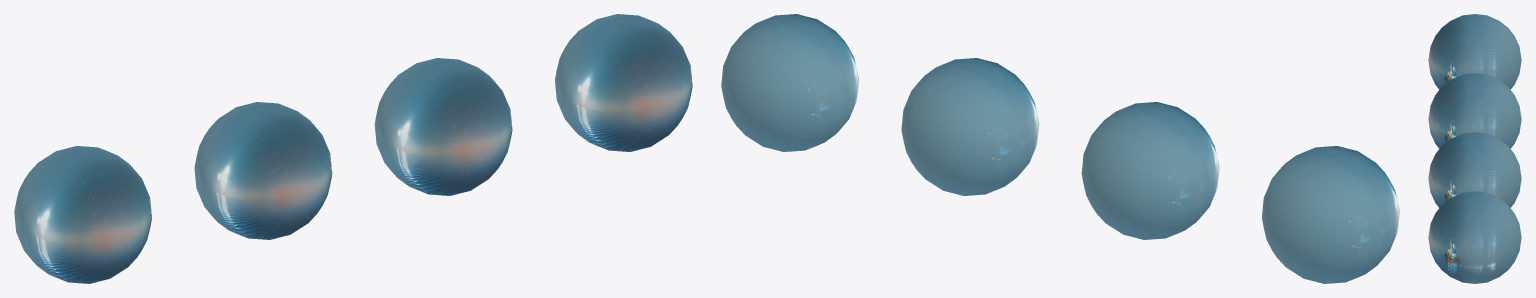
File: bubbleeeee.glb
The picture shows the model from 3 angles, left to right: view 1: azimuth 30°, elevation 25°; view 2: azimuth 150°, elevation 25°; view 3: azimuth 270°, elevation 25°; orthographic projection. The views are drawn at different scales.
Parts seen in each view (by area): view 1: Icosphere.001, Icosphere.004, Icosphere.002, Icosphere.003; view 2: Icosphere.001, Icosphere.004, Icosphere.002, Icosphere.003; view 3: Icosphere.004, Icosphere.002, Icosphere.003, Icosphere.001.
Boxes of the visible parts, x1,y1,x2,y2 form: Icosphere.001: [14, 146, 151, 283]; Icosphere.004: [555, 14, 692, 151]; Icosphere.002: [194, 102, 332, 239]; Icosphere.003: [374, 58, 512, 195]; Icosphere.001: [1262, 146, 1399, 283]; Icosphere.004: [721, 14, 858, 151]; Icosphere.002: [1081, 102, 1219, 239]; Icosphere.003: [901, 58, 1039, 195]; Icosphere.004: [1428, 191, 1521, 283]; Icosphere.002: [1428, 73, 1521, 148]; Icosphere.003: [1428, 132, 1521, 207]; Icosphere.001: [1428, 14, 1521, 89].
Size of the model in its own units: 55 by 10 by 10.
Materials: 2 (1 with a texture image).
